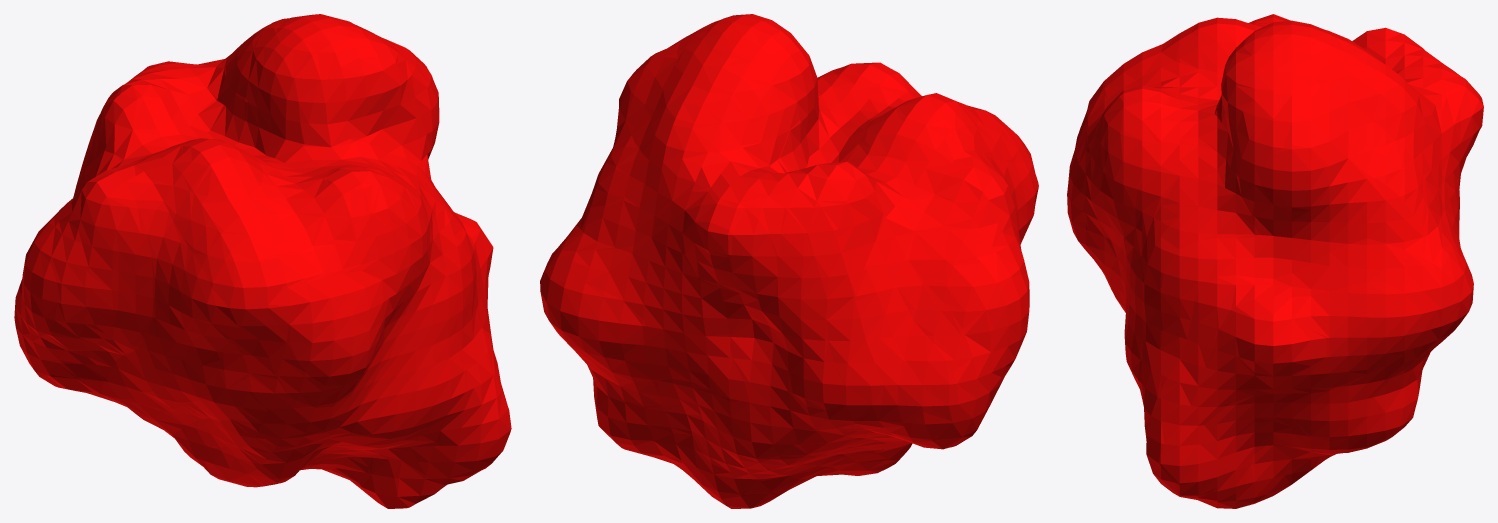
The model's file is ysgA_coarse.dae.
The picture shows the model from 3 angles, left to right: view 1: azimuth 30°, elevation 25°; view 2: azimuth 150°, elevation 25°; view 3: azimuth 270°, elevation 25°; orthographic projection. The views are drawn at different scales.
Visible parts, largest first — view 1: ysgA; view 2: ysgA; view 3: ysgA.
Boxes of the visible parts, x1,y1,x2,y2 form: ysgA: (14,14,511,508); ysgA: (540,14,1038,508); ysgA: (1067,14,1483,508).
Bounding box in the file's own units: 51.16 × 52.8 × 43.58.
